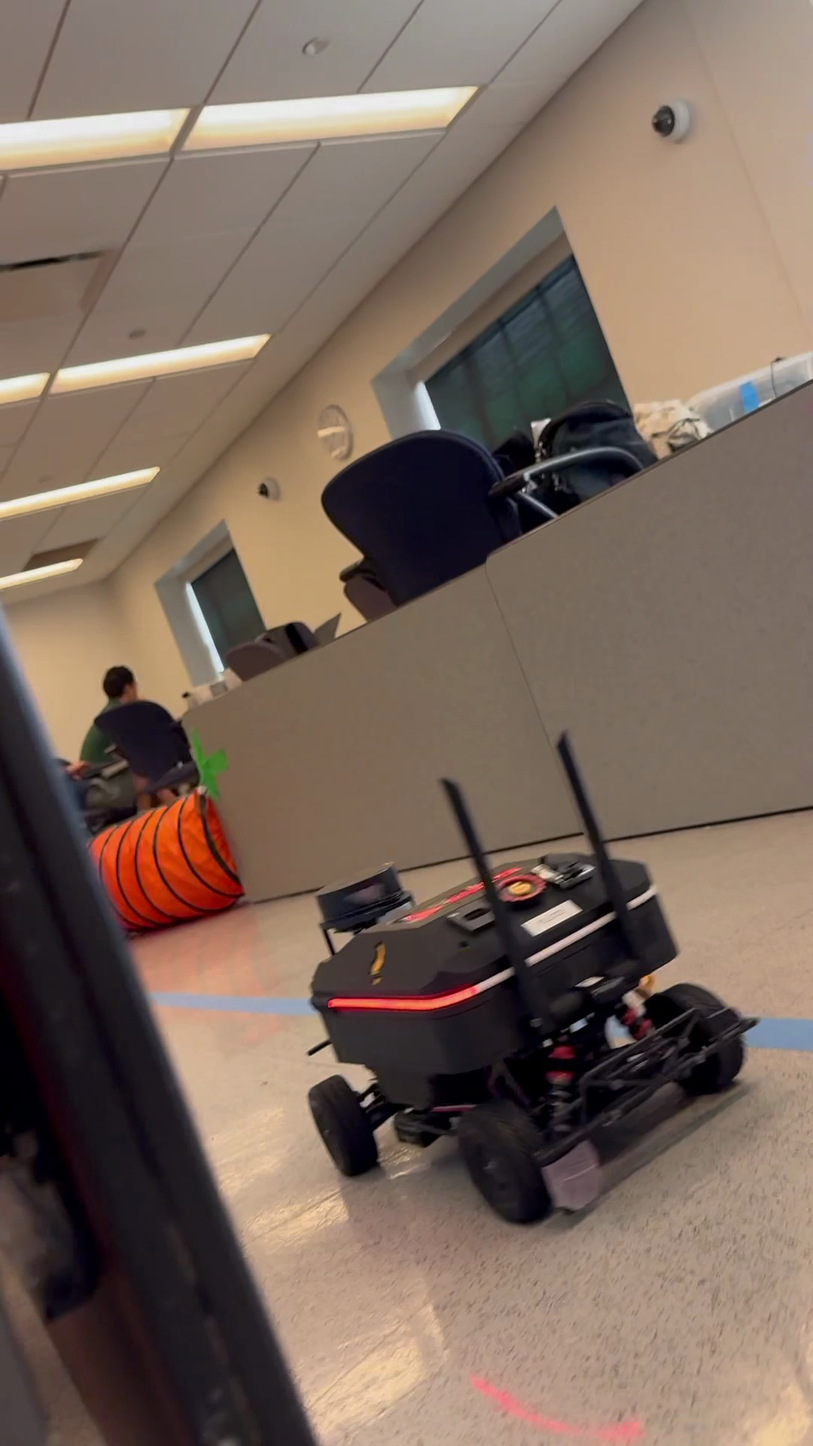racecar: (301, 739, 752, 1228)
